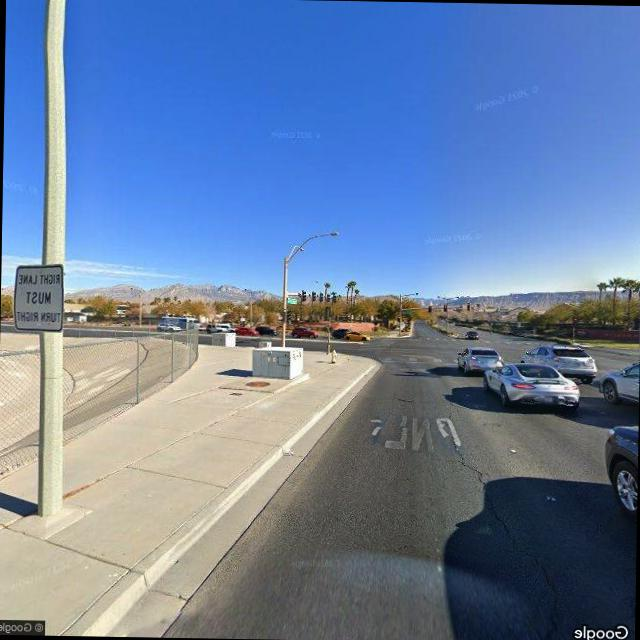pothole: (452, 438, 571, 622)
